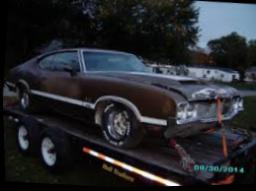Bonnet: (88, 71, 241, 102)
Bumper: (164, 112, 240, 136)
